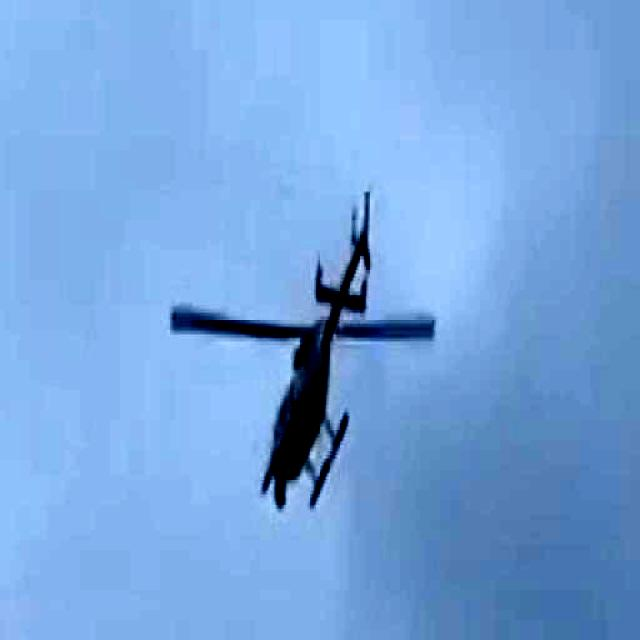drone: (164, 188, 442, 519)
